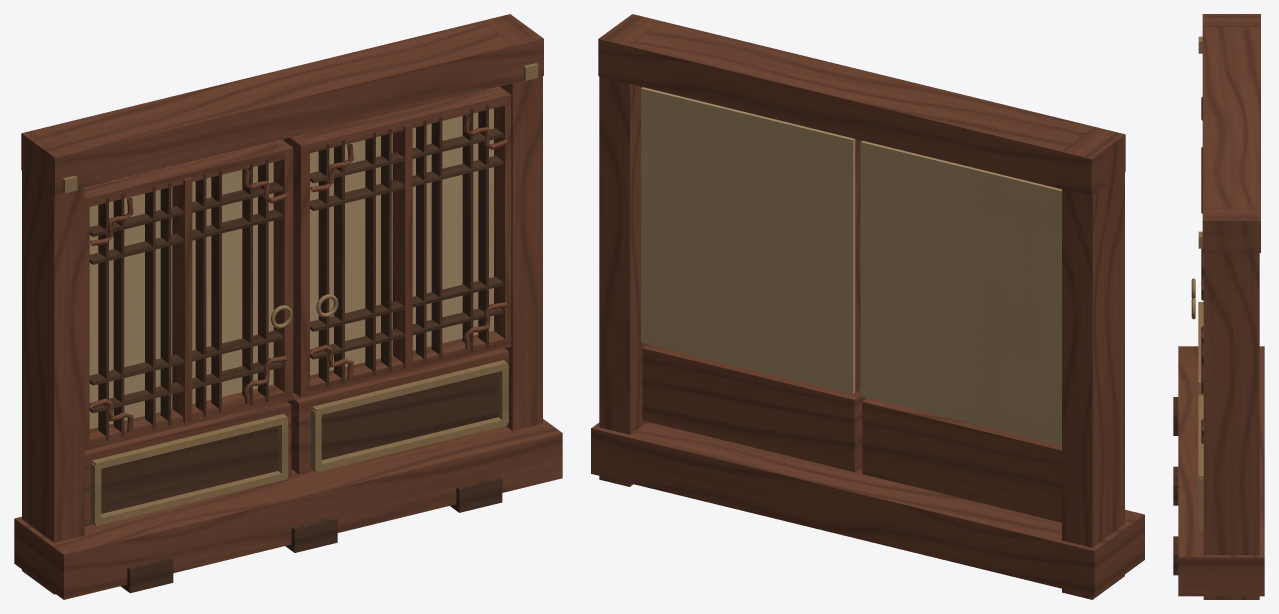
3 renders of one model, left to right at view 1: azimuth 30°, elevation 25°; view 2: azimuth 150°, elevation 25°; view 3: azimuth 270°, elevation 25°, orthographic. The views are drawn at different scales.
Visible parts, largest first — view 1: WindowCasing_heartwood, CasementPair_walnut, CasementPair_heartwood, CasementPair_silk, CasementPair_bronze, WindowCasing_walnut; view 2: WindowCasing_heartwood, CasementPair_silk, CasementPair_heartwood; view 3: WindowCasing_heartwood, CasementPair_bronze, WindowCasing_walnut, CasementPair_heartwood, WindowCasing_bronze.
Part boxes in pixels (x1,y1,x2,y2): WindowCasing_heartwood: (14,14,562,599); CasementPair_walnut: (89,105,503,513); CasementPair_heartwood: (84,86,511,526); CasementPair_silk: (85,87,497,429); CasementPair_bronze: (90,294,508,525); WindowCasing_walnut: (120,476,502,593); WindowCasing_heartwood: (591,14,1144,599); CasementPair_silk: (641,87,1061,445); CasementPair_heartwood: (642,139,1061,522); WindowCasing_heartwood: (1178,14,1264,599); CasementPair_bronze: (1191,278,1203,530); WindowCasing_walnut: (1173,397,1178,575); CasementPair_heartwood: (1201,97,1203,443); WindowCasing_bronze: (1198,36,1202,248).
Size of the model in its own units: 1.97 by 1.65 by 0.36.
4 materials, 4 textured.
